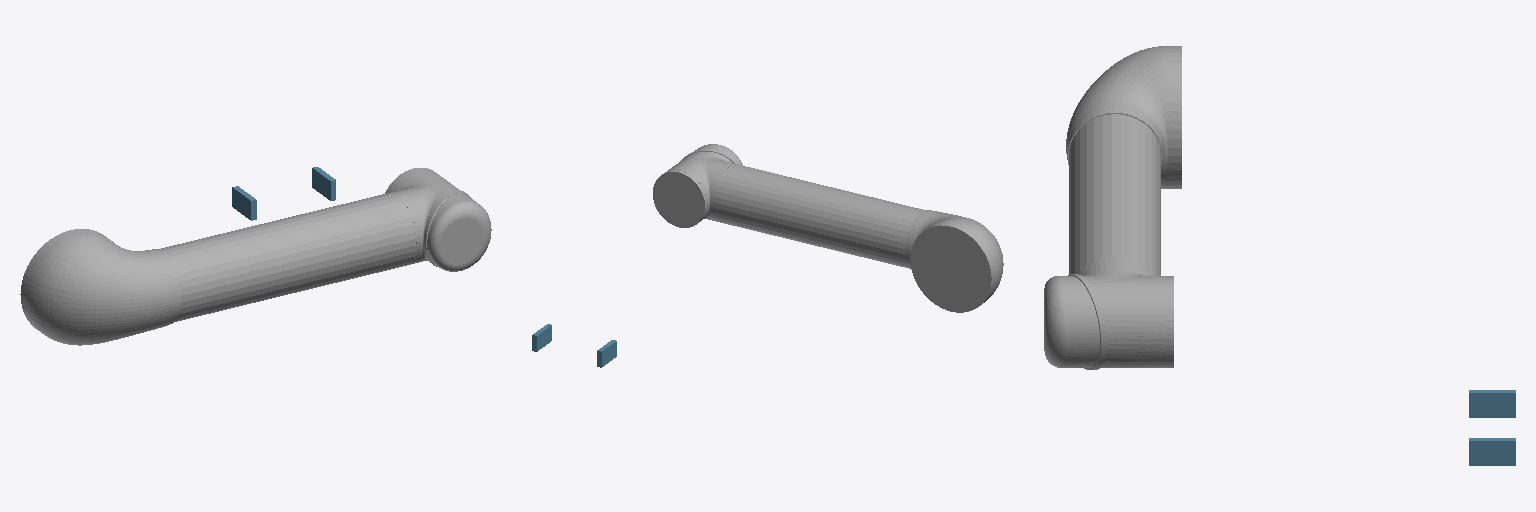
robot.urdf — ur5_robotiq_85:
<?xml version="1.0" ?>
<!-- =================================================================================== -->
<!-- |    This document was autogenerated by xacro from sisbot.xacro                   | -->
<!-- |    EDITING THIS FILE BY HAND IS NOT RECOMMENDED                                 | -->
<!-- =================================================================================== -->

<robot name="ur5_robotiq_85" xmlns:xacro="http://ros.org/wiki/xacro">
  <!--################################################
  ########              arm                    #######
  ####################################################-->

  <link name="base_link">
    <visual>
      <geometry>
        <mesh filename="package://ur5_pybullet_ros/script/meshes/ur5/visual/base.dae"/>
      </geometry>
      <material name="LightGrey">
        <color rgba="0.7 0.7 0.7 1.0"/>
      </material>
    </visual>
    <collision>
      <geometry>
        <mesh filename="package://ur5_pybullet_ros/script/meshes/ur5/collision/base.stl"/>
      </geometry>
    </collision>
    <inertial>
      <mass value="4.0"/>
      <origin rpy="0 0 0" xyz="0.0 0.0 0.0"/>
      <inertia ixx="0.00443333156" ixy="0.0" ixz="0.0" iyy="0.00443333156" iyz="0.0" izz="0.0072"/>
    </inertial>
  </link>

  <joint name="shoulder_pan_joint" type="revolute">
    <parent link="base_link"/>
    <child link="shoulder_link"/>
    <origin rpy="0.0 0.0 0.0" xyz="0.0 0.0 0.089159"/>
    <axis xyz="0 0 1"/>
    <limit effort="150.0" lower="-3.14159265359" upper="3.14159265359" velocity="3.15"/>
    <dynamics damping="0.0" friction="0.0"/>
  </joint>
  <link name="shoulder_link">
    <visual>
      <geometry>
        <mesh filename="package://ur5_pybullet_ros/script/meshes/ur5/visual/shoulder.dae"/>
      </geometry>
      <material name="UR-Blue">
        <color rgba="0.376 0.576 0.674 1.0"/>
      </material>
    </visual>
    <collision>
      <geometry>
        <mesh filename="package://ur5_pybullet_ros/script/meshes/ur5/collision/shoulder.stl"/>
      </geometry>
    </collision>
    <inertial>
      <mass value="3.7"/>
      <origin rpy="0 0 0" xyz="0.0 0.0 0.0"/>
      <inertia ixx="0.010267495893" ixy="0.0" ixz="0.0" iyy="0.010267495893" iyz="0.0" izz="0.00666"/>
    </inertial>
  </link>
  <joint name="shoulder_lift_joint" type="revolute">
    <parent link="shoulder_link"/>
    <child link="upper_arm_link"/>
    <origin rpy="0.0 1.57079632679 0.0" xyz="0.0 0.13585 0.0"/>
    <axis xyz="0 1 0"/>
    <limit effort="150.0" lower="-3.14159265359" upper="3.14159265359" velocity="3.15"/>
    <dynamics damping="0.0" friction="0.0"/>
  </joint>
  <link name="upper_arm_link">
    <visual>
      <geometry>
        <mesh filename="package://ur5_pybullet_ros/script/meshes/ur5/visual/upperarm.dae"/>
      </geometry>
      <material name="LightGrey">
        <color rgba="0.7 0.7 0.7 1.0"/>
      </material>
    </visual>
    <collision>
      <geometry>
        <mesh filename="package://ur5_pybullet_ros/script/meshes/ur5/collision/upperarm.stl"/>
      </geometry>
    </collision>
    <inertial>
      <mass value="8.393"/>
      <origin rpy="0 0 0" xyz="0.0 0.0 0.28"/>
      <inertia ixx="0.22689067591" ixy="0.0" ixz="0.0" iyy="0.22689067591" iyz="0.0" izz="0.0151074"/>
    </inertial>
  </link>
  <joint name="elbow_joint" type="revolute">
    <parent link="upper_arm_link"/>
    <child link="forearm_link"/>
    <origin rpy="0.0 0.0 0.0" xyz="0.0 -0.1197 0.425"/>
    <axis xyz="0 1 0"/>
    <limit effort="150.0" lower="-3.14159265359" upper="3.14159265359" velocity="3.15"/>
    <dynamics damping="0.0" friction="0.0"/>
  </joint>
  <link name="forearm_link">
    <visual>
      <geometry>
        <mesh filename="package://ur5_pybullet_ros/script/meshes/ur5/visual/forearm.dae"/>
      </geometry>
      <material name="LightGrey">
        <color rgba="0.7 0.7 0.7 1.0"/>
      </material>
    </visual>
    <collision>
      <geometry>
        <mesh filename="package://ur5_pybullet_ros/script/meshes/ur5/collision/forearm.stl"/>
      </geometry>
    </collision>
    <inertial>
      <mass value="2.275"/>
      <origin rpy="0 0 0" xyz="0.0 0.0 0.25"/>
      <inertia ixx="0.049443313556" ixy="0.0" ixz="0.0" iyy="0.049443313556" iyz="0.0" izz="0.004095"/>
    </inertial>
  </link>
  <joint name="wrist_1_joint" type="revolute">
    <parent link="forearm_link"/>
    <child link="wrist_1_link"/>
    <origin rpy="0.0 1.57079632679 0.0" xyz="0.0 0.0 0.39225"/>
    <axis xyz="0 1 0"/>
    <limit effort="28.0" lower="-3.14159265359" upper="3.14159265359" velocity="3.2"/>
    <dynamics damping="0.0" friction="0.0"/>
  </joint>
  <link name="wrist_1_link">
    <visual>
      <geometry>
        <mesh filename="package://ur5_pybullet_ros/script/meshes/ur5/visual/wrist1.dae"/>
      </geometry>
      <material name="UR-Blue">
        <color rgba="0.376 0.576 0.674 1.0"/>
      </material>
    </visual>
    <collision>
      <geometry>
        <mesh filename="package://ur5_pybullet_ros/script/meshes/ur5/collision/wrist1.stl"/>
      </geometry>
    </collision>
    <inertial>
      <mass value="1.219"/>
      <origin rpy="0 0 0" xyz="0.0 0.0 0.0"/>
      <inertia ixx="0.111172755531" ixy="0.0" ixz="0.0" iyy="0.111172755531" iyz="0.0" izz="0.21942"/>
    </inertial>
  </link>
  <joint name="wrist_2_joint" type="revolute">
    <parent link="wrist_1_link"/>
    <child link="wrist_2_link"/>
    <origin rpy="0.0 0.0 0.0" xyz="0.0 0.093 0.0"/>
    <axis xyz="0 0 1"/>
    <limit effort="28.0" lower="-3.14159265359" upper="3.14159265359" velocity="3.2"/>
    <dynamics damping="0.0" friction="0.0"/>
  </joint>
  <link name="wrist_2_link">
    <visual>
      <geometry>
        <mesh filename="package://ur5_pybullet_ros/script/meshes/ur5/visual/wrist2.dae"/>
      </geometry>
      <material name="DarkGray">
        <color rgba="0.5 0.5 0.5 1.0"/>
      </material>
    </visual>
    <collision>
      <geometry>
        <mesh filename="package://ur5_pybullet_ros/script/meshes/ur5/collision/wrist2.stl"/>
      </geometry>
    </collision>
    <inertial>
      <mass value="1.219"/>
      <origin rpy="0 0 0" xyz="0.0 0.0 0.0"/>
      <inertia ixx="0.111172755531" ixy="0.0" ixz="0.0" iyy="0.111172755531" iyz="0.0" izz="0.21942"/>
    </inertial>
  </link>
  <joint name="wrist_3_joint" type="revolute">
    <parent link="wrist_2_link"/>
    <child link="wrist_3_link"/>
    <origin rpy="0.0 0.0 0.0" xyz="0.0 0.0 0.09465"/>
    <axis xyz="0 1 0"/>
    <limit effort="28.0" lower="-3.14159265359" upper="3.14159265359" velocity="3.2"/>
    <dynamics damping="0.0" friction="0.0"/>
  </joint>
  <link name="wrist_3_link">
    <visual>
      <geometry>
        <mesh filename="package://ur5_pybullet_ros/script/meshes/ur5/visual/wrist3.dae"/>
      </geometry>
      <material name="LightGrey">
        <color rgba="0.7 0.7 0.7 1.0"/>
      </material>
    </visual>
    <collision>
      <geometry>
        <mesh filename="package://ur5_pybullet_ros/script/meshes/ur5/collision/wrist3.stl"/>
      </geometry>
    </collision>
    <inertial>
      <mass value="0.1879"/>
      <origin rpy="0 0 0" xyz="0.0 0.0 0.0"/>
      <inertia ixx="0.0171364731454" ixy="0.0" ixz="0.0" iyy="0.0171364731454" iyz="0.0" izz="0.033822"/>
    </inertial>
  </link>
  <joint name="ee_fixed_joint" type="fixed">
    <parent link="wrist_3_link"/>
    <child link="ee_link"/>
    <origin rpy="0.0 0.0 1.57079632679" xyz="0.0 0.0823 0.0"/>
  </joint>
  <link name="ee_link">
    <collision>
      <geometry>
        <box size="0.01 0.01 0.01"/>
      </geometry>
      <origin rpy="0 0 0" xyz="-0.01 0 0"/>
    </collision>
    <inertial>
      <mass value="0.01"/>
      <origin rpy="0 0 0" xyz="0.0 0.0 0.0"/>
      <inertia ixx="0.001" ixy="0.0" ixz="0.0" iyy="0.001" iyz="0.0" izz="0.001"/>
    </inertial>
  </link>

  <!--################################################
  ########              gripper                  #####
  ####################################################-->

  <link name="robotiq_arg2f_base_link">
    <inertial>
      <origin rpy="0 0 0" xyz="8.625E-08 -4.6583E-06 0.03145"/>
      <mass value="0.22652"/>
      <inertia ixx="0.00020005" ixy="-4.2442E-10" ixz="-2.9069E-10" iyy="0.00017832" iyz="-3.4402E-08" izz="0.00013478"/>
    </inertial>
    <visual>
      <origin rpy="0 0 0" xyz="0 0 0"/>
      <geometry>
        <mesh filename="package://ur5_pybullet_ros/script/meshes/robotiq_85/visual/robotiq_arg2f_85_base_link.dae" scale="0.001 0.001 0.001"/>
      </geometry>
      <material name="LightGrey">
        <color rgba="0.7 0.7 0.7 1.0"/>
      </material>
    </visual>
    <collision>
      <origin rpy="0 0 0" xyz="0 0 0"/>
      <geometry>
        <mesh filename="package://ur5_pybullet_ros/script/meshes/robotiq_85/collision/robotiq_arg2f_base_link.stl"/>
      </geometry>
    </collision>
  </link>
  <joint name="finger_joint" type="revolute">
    <origin rpy="0 0 3.14159265359" xyz="0 -0.0306011 0.054904"/>
    <parent link="robotiq_arg2f_base_link"/>
    <child link="left_outer_knuckle"/>
    <axis xyz="1 0 0"/>
    <limit effort="1000" lower="0" upper="0.8" velocity="2.0"/>
  </joint>
  <link name="left_outer_knuckle">
    <inertial>
        <origin xyz="-0.000200000000003065 0.0199435877845359 0.0292245259211331" rpy="0 0 0" />
        <mass value="0.00853198276973456" />
        <inertia ixx="2.89328108496468E-06" ixy="-1.57935047237397E-19" ixz="-1.93980378593255E-19" iyy="1.86719750325683E-06" iyz="-1.21858577871576E-06" izz="1.21905238907251E-06" />
        </inertial>
    <visual>
      <origin rpy="0 0 0" xyz="0 0 0"/>
      <geometry>
        <mesh filename="package://ur5_pybullet_ros/script/meshes/robotiq_85/visual/robotiq_arg2f_85_outer_knuckle.dae" scale="0.001 0.001 0.001"/>
      </geometry>
      <material name="">
        <color rgba="1 1 0 1"/>
      </material>
    </visual>
    <collision>
      <origin rpy="0 0 0" xyz="0 0 0"/>
      <geometry>
        <mesh filename="package://ur5_pybullet_ros/script/meshes/robotiq_85/collision/robotiq_arg2f_85_outer_knuckle.dae" scale="0.001 0.001 0.001"/>
      </geometry>
    </collision>
  </link>
  <joint name="left_outer_finger_joint" type="fixed">
    <origin rpy="0 0 0" xyz="0 0.0315 -0.0041"/>
    <parent link="left_outer_knuckle"/>
    <child link="left_outer_finger"/>
    <axis xyz="1 0 0"/>
  </joint>
  <link name="left_outer_finger">
    <inertial>
        <origin xyz="0.00030115855001899 0.0373907951953854 -0.0208027427000385" rpy="0 0 0" />
        <mass value="0.022614240507152" />
        <inertia ixx="1.52518312458174E-05" ixy="9.76583423954399E-10" ixz="-5.43838577022588E-10" iyy="6.17694243867776E-06" iyz="6.78636130740228E-06" izz="1.16494917907219E-05" />
        </inertial>
    <visual>
      <origin rpy="0 0 0" xyz="0 0 0"/>
      <geometry>
        <mesh filename="package://ur5_pybullet_ros/script/meshes/robotiq_85/visual/robotiq_arg2f_85_outer_finger.dae" scale="0.001 0.001 0.001"/>
      </geometry>
      <material name="LightGrey">
        <color rgba="0 1 1 1.0"/>
      </material>
    </visual>
    <collision>
      <origin rpy="0 0 0" xyz="0 0 0"/>
      <geometry>
        <mesh filename="package://ur5_pybullet_ros/script/meshes/robotiq_85/collision/robotiq_arg2f_85_outer_finger.dae" scale="0.001 0.001 0.001"/>
      </geometry>
    </collision>
  </link>
  <joint name="left_inner_finger_joint" type="revolute">
    <origin rpy="0 0 0" xyz="0 0.0061 0.0471"/>
    <parent link="left_outer_finger"/>
    <child link="left_inner_finger"/>
    <axis xyz="1 0 0"/>
    <limit effort="1000" lower="-0.8757" upper="0" velocity="2.0"/>
    <mimic joint="finger_joint" multiplier="-1" offset="0"/>
  </joint>
  <link name="left_inner_finger">
    <inertial>
        <origin xyz="0.000299999999999317 0.0160078233491243 -0.0136945669206257" rpy="0 0 0" />
        <mass value="0.0104003125914103" />
        <inertia ixx="2.71909453810972E-06" ixy="1.35402465472579E-21" ixz="-7.1817349065269E-22" iyy="7.69100314106116E-07" iyz="6.74715432769696E-07" izz="2.30315190420171E-06" />
        </inertial>
    <visual>
      <origin rpy="0 0 0" xyz="0 0 0"/>
      <geometry>
        <mesh filename="package://ur5_pybullet_ros/script/meshes/robotiq_85/visual/robotiq_arg2f_85_inner_finger.dae" scale="0.001 0.001 0.001"/>
      </geometry>
      <material name="LightGrey">
        <color rgba="1 0 1 1.0"/>
      </material>
    </visual>
    <collision>
      <origin rpy="0 0 0" xyz="0 0 0"/>
      <geometry>
        <mesh filename="package://ur5_pybullet_ros/script/meshes/robotiq_85/collision/robotiq_arg2f_85_inner_finger.dae" scale="0.001 0.001 0.001"/>
      </geometry>
    </collision>
  </link>
  <joint name="left_inner_finger_pad_joint" type="fixed">
    <origin rpy="0 0 0" xyz="0 -0.0220203446692936 0.03242"/>
    <parent link="left_inner_finger"/>
    <child link="left_inner_finger_pad"/>
    <axis xyz="0 0 1"/>
  </joint>
  <link name="left_inner_finger_pad">
    <inertial>
      <mass value="1."/>
      <inertia ixx="0.0001" ixy="0.0" ixz="0.0" iyy="0.0001" iyz="0.0" izz="0.0001"/>
    </inertial>
    <visual>
      <origin rpy="0 0 0" xyz="0 0 0"/>
      <geometry>
        <box size="0.022 0.00635 0.0375"/>
      </geometry>
      <material name="UR-Blue">
        <color rgba="0.376 0.576 0.674 1.0"/>
      </material>
    </visual>
    <collision>
      <origin rpy="0 0 0" xyz="0 0 0"/>
      <geometry>
        <box size="0.022 0.00635 0.0375"/>
      </geometry>
      <material name="">
        <color rgba="0.9 0.0 0.0 1"/>
      </material>
    </collision>
  </link>
  <joint name="left_inner_knuckle_joint" type="revolute">
    <!-- <origin xyz="0 ${reflect * -0.0127} 0.06142" rpy="${pi / 2 + .725} 0 ${(reflect - 1) * pi / 2}" /> -->
    <origin rpy="0 0 3.14159265359" xyz="0 -0.0127 0.06142"/>
    <parent link="robotiq_arg2f_base_link"/>
    <child link="left_inner_knuckle"/>
    <axis xyz="1 0 0"/>
    <limit effort="1000" lower="0" upper="0.8757" velocity="2.0"/>
    <mimic joint="finger_joint" multiplier="1" offset="0"/>
  </joint>
  <link name="left_inner_knuckle">
    <inertial>
        <origin xyz="0.000123011831763771 0.0507850843201817 0.00103968640075166" rpy="0 0 0" />
       <mass value="0.0271177346495152" />
        <inertia ixx="2.61910379223783E-05" ixy="-2.43616858946494E-07" ixz="-6.37789906117123E-09" iyy="2.8270243746167E-06" iyz="-5.37200748039765E-07" izz="2.83695868220296E-05" />
        </inertial>
    <visual>
      <origin rpy="0 0 0" xyz="0 0 0"/>
      <geometry>
        <mesh filename="package://ur5_pybullet_ros/script/meshes/robotiq_85/visual/robotiq_arg2f_85_inner_knuckle.dae" scale="0.001 0.001 0.001"/>
      </geometry>
      <material name="LightGrey">
        <color rgba="0 0 1 1.0"/>
      </material>
    </visual>
    <collision>
      <origin rpy="0 0 0" xyz="0 0 0"/>
      <geometry>
        <mesh filename="package://ur5_pybullet_ros/script/meshes/robotiq_85/collision/robotiq_arg2f_85_inner_knuckle.dae" scale="0.001 0.001 0.001"/>
      </geometry>
    </collision>
  </link>
  <joint name="right_outer_knuckle_joint" type="revolute">
    <origin rpy="0 0 0" xyz="0 0.0306011 0.054904"/>
    <parent link="robotiq_arg2f_base_link"/>
    <child link="right_outer_knuckle"/>
    <axis xyz="1 0 0"/>
    <limit effort="1000" lower="0" upper="0.81" velocity="2.0"/>
    <mimic joint="finger_joint" multiplier="1" offset="0"/>
  </joint>
  <link name="right_outer_knuckle">
    <inertial>
        <origin xyz="-0.000200000000003065 0.0199435877845359 0.0292245259211331" rpy="0 0 0" />
        <mass value="0.00853198276973456" />
        <inertia ixx="2.89328108496468E-06" ixy="-1.57935047237397E-19" ixz="-1.93980378593255E-19" iyy="1.86719750325683E-06" iyz="-1.21858577871576E-06" izz="1.21905238907251E-06" />
        </inertial>
    <visual>
      <origin rpy="0 0 0" xyz="0 0 0"/>
      <geometry>
        <mesh filename="package://ur5_pybullet_ros/script/meshes/robotiq_85/visual/robotiq_arg2f_85_outer_knuckle.dae" scale="0.001 0.001 0.001"/>
      </geometry>
      <material name="">
        <color rgba="0.792156862745098 0.819607843137255 0.933333333333333 1"/>
      </material>
    </visual>
    <collision>
      <origin rpy="0 0 0" xyz="0 0 0"/>
      <geometry>
        <mesh filename="package://ur5_pybullet_ros/script/meshes/robotiq_85/collision/robotiq_arg2f_85_outer_knuckle.dae" scale="0.001 0.001 0.001"/>
      </geometry>
    </collision>
  </link>
  <joint name="right_outer_finger_joint" type="fixed">
    <origin rpy="0 0 0" xyz="0 0.0315 -0.0041"/>
    <parent link="right_outer_knuckle"/>
    <child link="right_outer_finger"/>
    <axis xyz="1 0 0"/>
  </joint>
  <link name="right_outer_finger">
    <inertial>
        <origin xyz="0.00030115855001899 0.0373907951953854 -0.0208027427000385" rpy="0 0 0" />
        <mass value="0.022614240507152" />
        <inertia ixx="1.52518312458174E-05" ixy="9.76583423954399E-10" ixz="-5.43838577022588E-10" iyy="6.17694243867776E-06" iyz="6.78636130740228E-06" izz="1.16494917907219E-05" />
        </inertial>
    <visual>
      <origin rpy="0 0 0" xyz="0 0 0"/>
      <geometry>
        <mesh filename="package://ur5_pybullet_ros/script/meshes/robotiq_85/visual/robotiq_arg2f_85_outer_finger.dae" scale="0.001 0.001 0.001"/>
      </geometry>
      <material name="LightGrey">
        <color rgba="0.7 0.7 0.7 1.0"/>
      </material>
    </visual>
    <collision>
      <origin rpy="0 0 0" xyz="0 0 0"/>
      <geometry>
        <mesh filename="package://ur5_pybullet_ros/script/meshes/robotiq_85/collision/robotiq_arg2f_85_outer_finger.dae" scale="0.001 0.001 0.001"/>
      </geometry>
    </collision>
  </link>
  <joint name="right_inner_finger_joint" type="revolute">
    <origin rpy="0 0 0" xyz="0 0.0061 0.0471"/>
    <parent link="right_outer_finger"/>
    <child link="right_inner_finger"/>
    <axis xyz="1 0 0"/>
    <limit effort="1000" lower="-0.8757" upper="0" velocity="2.0"/>
    <mimic joint="finger_joint" multiplier="-1" offset="0"/>
  </joint>
  <link name="right_inner_finger">
    <inertial>
        <origin xyz="0.000299999999999317 0.0160078233491243 -0.0136945669206257" rpy="0 0 0" />
        <mass value="0.0104003125914103" />
        <inertia ixx="2.71909453810972E-06" ixy="1.35402465472579E-21" ixz="-7.1817349065269E-22" iyy="7.69100314106116E-07" iyz="6.74715432769696E-07" izz="2.30315190420171E-06" />
        </inertial>
    <visual>
      <origin rpy="0 0 0" xyz="0 0 0"/>
      <geometry>
        <mesh filename="package://ur5_pybullet_ros/script/meshes/robotiq_85/visual/robotiq_arg2f_85_inner_finger.dae" scale="0.001 0.001 0.001"/>
      </geometry>
      <material name="">
        <color rgba="0.1 0.1 0.1 1"/>
      </material>
    </visual>
    <collision>
      <origin rpy="0 0 0" xyz="0 0 0"/>
      <geometry>
        <mesh filename="package://ur5_pybullet_ros/script/meshes/robotiq_85/collision/robotiq_arg2f_85_inner_finger.dae" scale="0.001 0.001 0.001"/>
      </geometry>
    </collision>
  </link>
  <joint name="right_inner_finger_pad_joint" type="fixed">
    <origin rpy="0 0 0" xyz="0 -0.0220203446692936 0.03242"/>
    <parent link="right_inner_finger"/>
    <child link="right_inner_finger_pad"/>
    <axis xyz="0 0 1"/>
  </joint>
  <link name="right_inner_finger_pad">
    <inertial>
      <mass value="1"/>
      <inertia ixx="0.0001" ixy="0.0" ixz="0.0" iyy="0.0001" iyz="0.0" izz="0.0001"/>
    </inertial>
    <visual>
      <origin rpy="0 0 0" xyz="0 0 0"/>
      <geometry>
        <box size="0.022 0.00635 0.0375"/>
      </geometry>
      <material name="UR-Blue">
        <color rgba="0.376 0.576 0.674 1.0"/>
      </material>
    </visual>
    <collision>
      <origin rpy="0 0 0" xyz="0 0 0"/>
      <geometry>
        <box size="0.022 0.00635 0.0375"/>
      </geometry>
      <material name="LightGrey">
        <color rgba="0.7 0.7 0.7 1.0"/>
      </material>
    </collision>
  </link>
  <joint name="right_inner_knuckle_joint" type="revolute">
    <!-- <origin xyz="0 ${reflect * -0.0127} 0.06142" rpy="${pi / 2 + .725} 0 ${(reflect - 1) * pi / 2}" /> -->
    <origin rpy="0 0 0.0" xyz="0 0.0127 0.06142"/>
    <parent link="robotiq_arg2f_base_link"/>
    <child link="right_inner_knuckle"/>
    <axis xyz="1 0 0"/>
    <limit effort="1000" lower="0" upper="0.8757" velocity="2.0"/>
    <mimic joint="finger_joint" multiplier="1" offset="0"/>
  </joint>
  <link name="right_inner_knuckle">
    <inertial>
        <origin xyz="0.000123011831763771 0.0507850843201817 0.00103968640075166" rpy="0 0 0" />
       <mass value="0.0271177346495152" />
        <inertia ixx="2.61910379223783E-05" ixy="-2.43616858946494E-07" ixz="-6.37789906117123E-09" iyy="2.8270243746167E-06" iyz="-5.37200748039765E-07" izz="2.83695868220296E-05" />
        </inertial>
    <visual>
      <origin rpy="0 0 0" xyz="0 0 0"/>
      <geometry>
        <mesh filename="package://ur5_pybullet_ros/script/meshes/robotiq_85/visual/robotiq_arg2f_85_inner_knuckle.dae" scale="0.001 0.001 0.001"/>
      </geometry>
      <material name="LightGrey">
        <color rgba="0.7 0.7 0.7 1.0"/>
      </material>
    </visual>
    <collision>
      <origin rpy="0 0 0" xyz="0 0 0"/>
      <geometry>
        <mesh filename="package://ur5_pybullet_ros/script/meshes/robotiq_85/collision/robotiq_arg2f_85_inner_knuckle.dae" scale="0.001 0.001 0.001"/>
      </geometry>
    </collision>
  </link>

<!--################################################
  ########          connect model                #####
  ####################################################-->

  <link name="world"/>
  <!-- connect gripper to arm -->
  <joint name="robotiq_85_base_joint" type="fixed">
    <parent link="ee_link"/>
    <child link="robotiq_arg2f_base_link"/>
    <origin rpy="0 1.57079632679 0" xyz="0 0 0"/>
  </joint>

<!--  <joint name="arm_gripper_joint" type="fixed">-->
<!--    <parent link="ee_link"/>-->
<!--    <child link="robotiq_140_robotiq_arg2f_base_link"/>-->
<!--    <origin rpy="-1.57 1.57 -1.57" xyz="0.0 0.0 0.0"/>-->
<!--  </joint>-->

  <!-- connect arm to world -->
  <joint name="world_arm_joint" type="fixed">
    <parent link="world"/>
    <child link="base_link"/>
    <origin rpy="0.0 0.0 0" xyz="0 0 0"/>
  </joint>


</robot>

--- What the picture shows (computed from the rendered views, not written in the file) ---
The picture shows the robot from 3 angles, left to right: view 1: azimuth 30°, elevation 25°; view 2: azimuth 150°, elevation 25°; view 3: azimuth 270°, elevation 25°; orthographic projection.
Model ur5_robotiq_85 with 20 links and 19 joints (12 revolute, 7 fixed), rooted at world, posed all joints at 0.
Links seen in each view (by area): view 1: forearm_link, left_inner_finger_pad, right_inner_finger_pad; view 2: forearm_link; view 3: forearm_link, left_inner_finger_pad, right_inner_finger_pad.
Link boxes in pixels (left/top/right/bottom): forearm_link: left=20, top=168, right=491, bottom=345; left_inner_finger_pad: left=232, top=186, right=256, bottom=220; right_inner_finger_pad: left=312, top=167, right=335, bottom=200; forearm_link: left=653, top=144, right=1003, bottom=312; forearm_link: left=1044, top=46, right=1181, bottom=369; left_inner_finger_pad: left=1469, top=390, right=1515, bottom=417; right_inner_finger_pad: left=1469, top=438, right=1515, bottom=465.
Bounding box of the posed robot: 0.4996 × 0.3816 × 0.1636 m (x, y, z).
1 mesh visuals loaded from 12 distinct referenced files (1 Collada DAE); not drawn: 15 (reference not matched to a file when rendering).